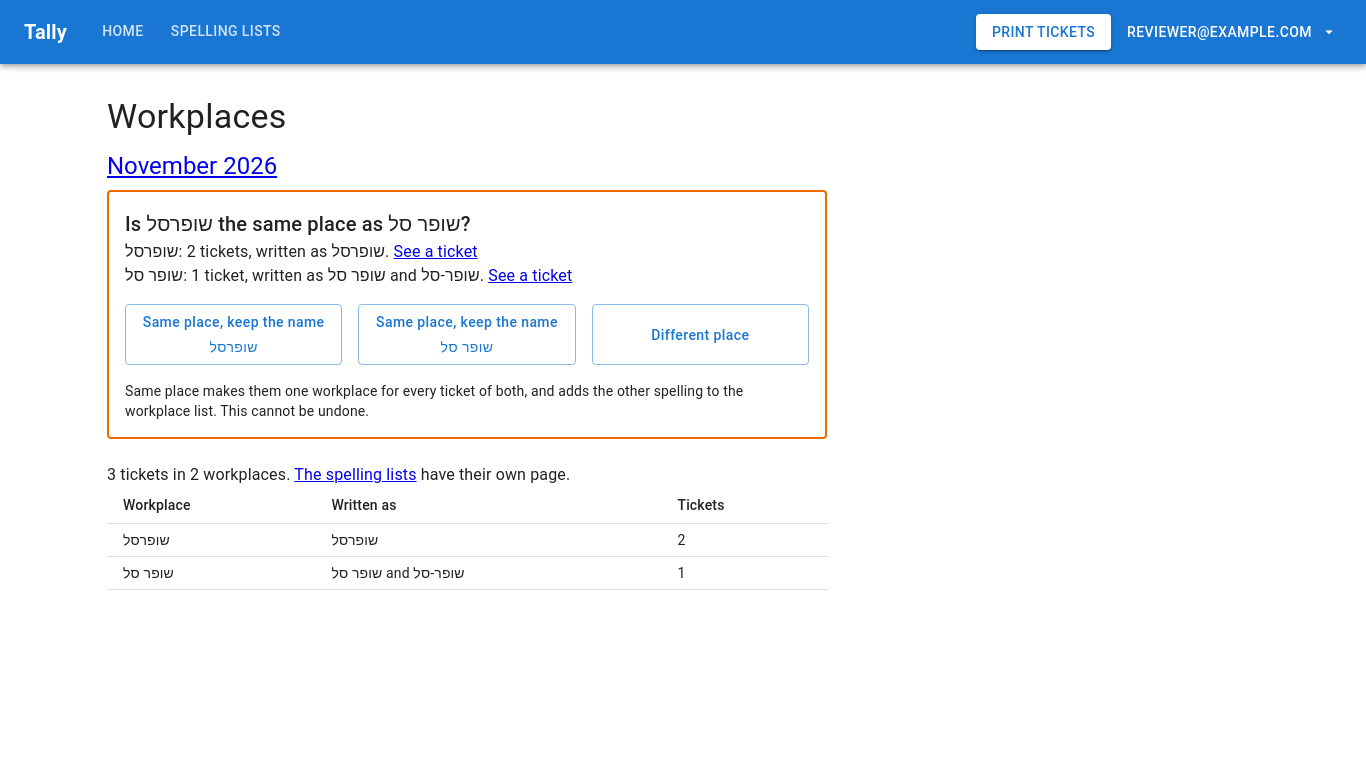
Scenario: the Workplaces page › shows the server message when the question was already answered, and reloads the month
Click the button "Different place": (700, 335) [592,304,809,365]
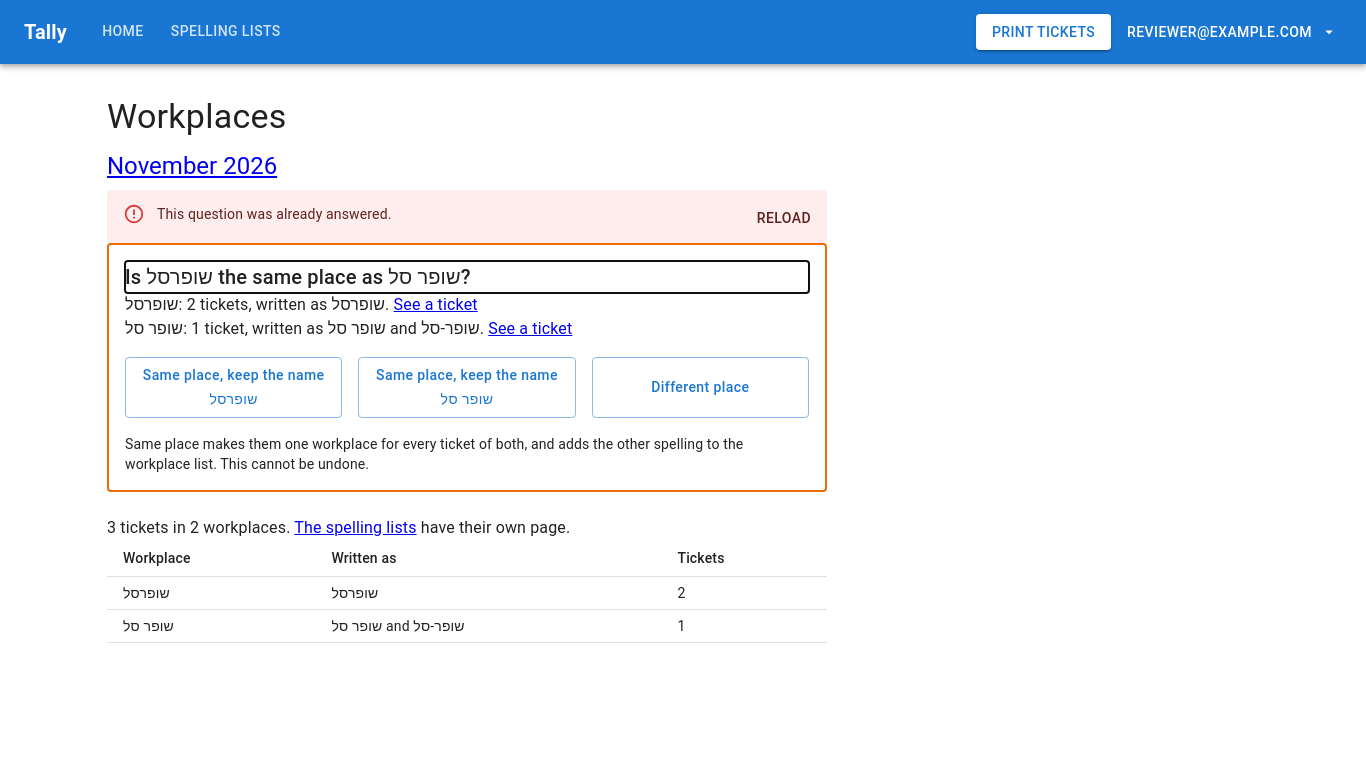
Now the text "This question was already answered." is shown, box [157,206,392,222]
